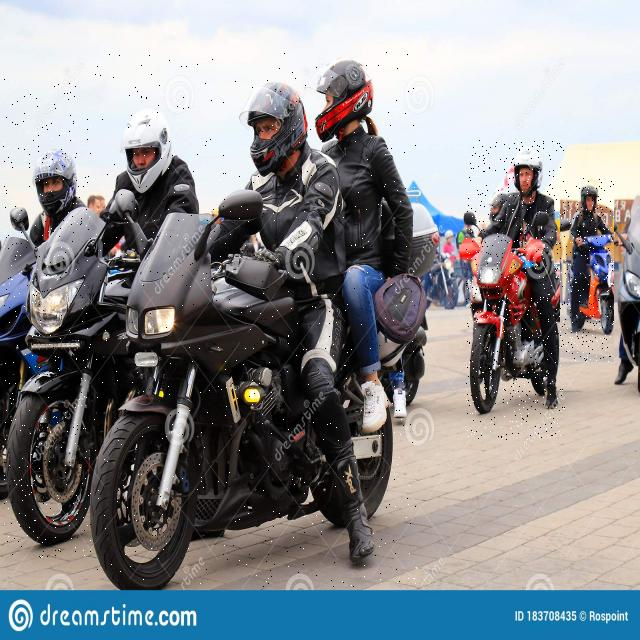With Helmet: (92, 52, 416, 587), (3, 78, 91, 558), (466, 140, 565, 440), (560, 176, 614, 362)
